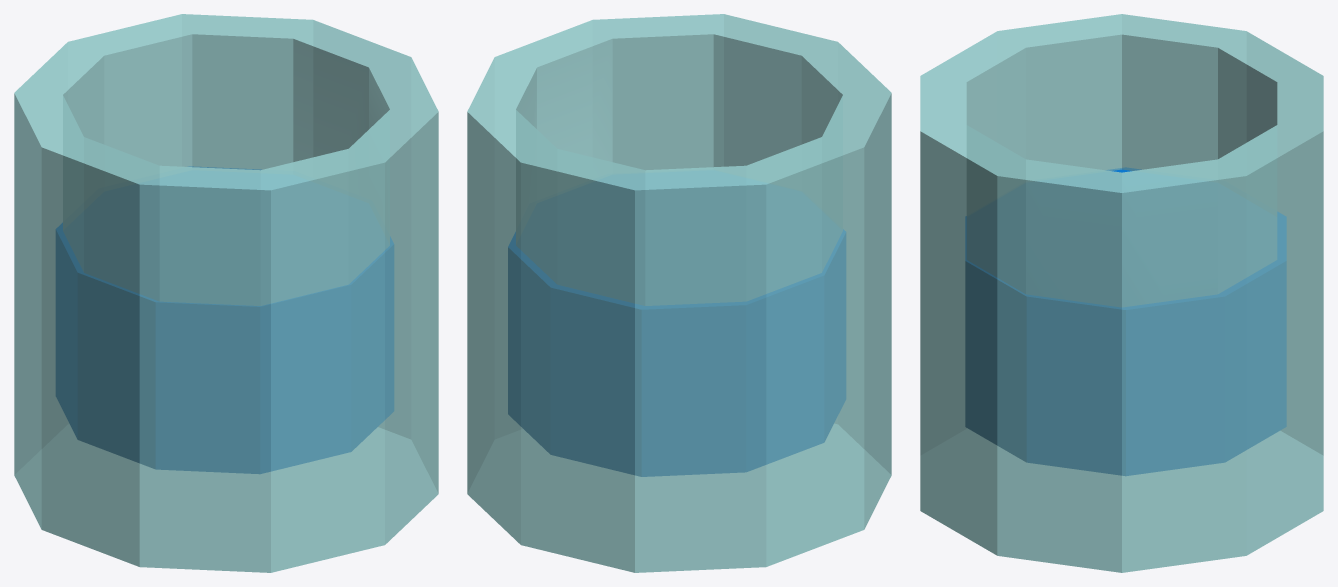
The model's file is Copo3.fbx.
3 views of the same model, side by side, from view 1: azimuth 30°, elevation 25°; view 2: azimuth 150°, elevation 25°; view 3: azimuth 270°, elevation 25° (orthographic).
Parts seen in each view (by area): view 1: pCylinder3; view 2: pCylinder3; view 3: pCylinder3.
Boxes of the visible parts, x1,y1,x2,y2 form: pCylinder3: [14, 14, 438, 572]; pCylinder3: [467, 14, 891, 572]; pCylinder3: [920, 14, 1323, 572].
Bounding box in the file's own units: 2 × 1.98 × 1.9.
